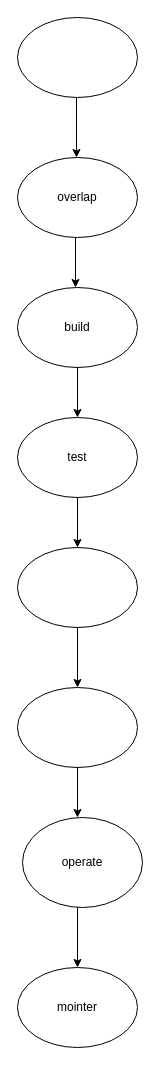
This 160x1065 diagram has some shape labels left out. The centre of each missing label's shape, as x and y in pixels:
"deploy" belongs at (77,727).
"plan" belongs at (77,57).
"release" belongs at (77,587).
